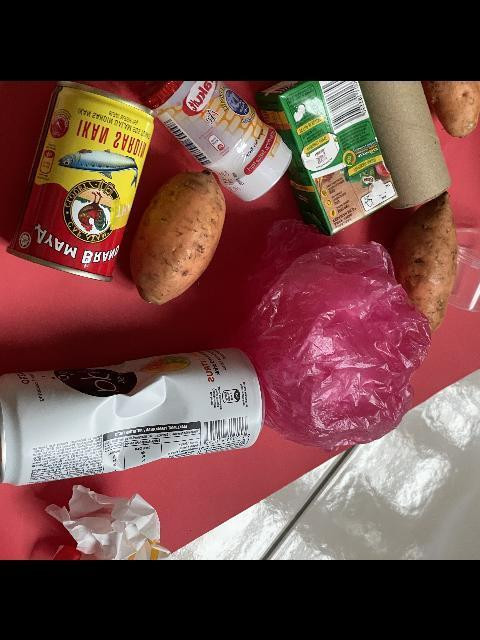drinkcan: (0, 348, 268, 486)
drinkpack: (252, 80, 400, 238)
paperbag: (42, 482, 174, 560)
plasticbag: (230, 218, 432, 452)
plasticbottle: (141, 80, 295, 202)
plasticcontainer: (441, 225, 480, 312)
sweetpotato: (130, 167, 228, 306), (390, 189, 458, 337), (428, 80, 480, 138)
teabag: (0, 232, 40, 358)
tissueroll: (356, 80, 452, 208)
